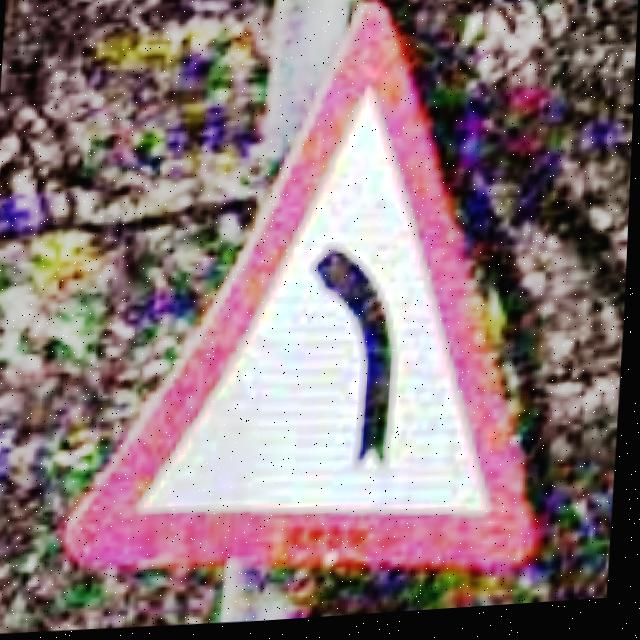leftbend: (66, 8, 543, 580)
